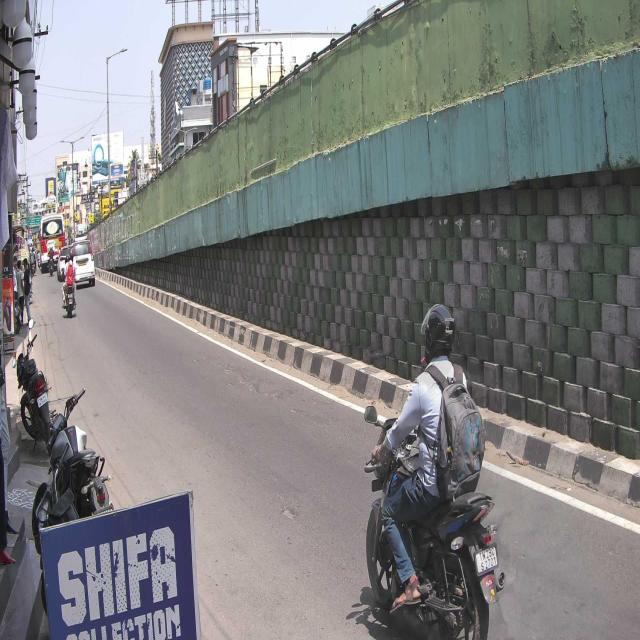single_rider: (362, 302, 503, 640)
